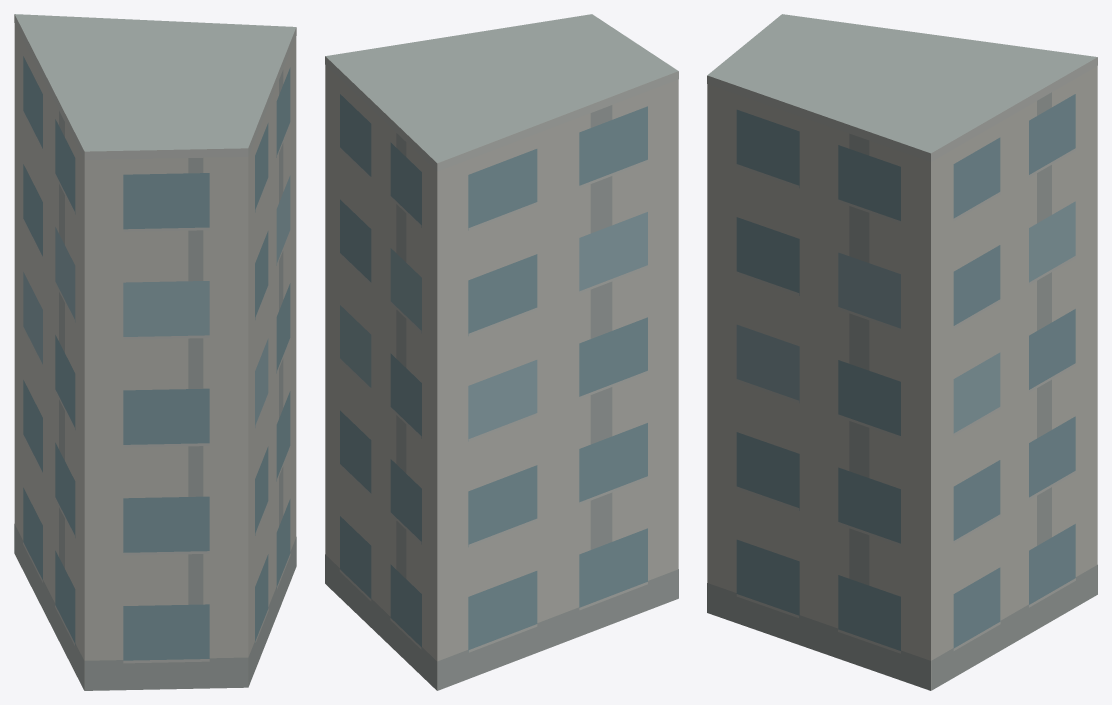
File: survey-upis-32717664.glb
3 renders of one model, left to right at view 1: azimuth 30°, elevation 25°; view 2: azimuth 150°, elevation 25°; view 3: azimuth 270°, elevation 25°, orthographic. The views are drawn at different scales.
Parts seen in each view (by area): view 1: survey-upis-32717664.tmp; view 2: survey-upis-32717664.tmp; view 3: survey-upis-32717664.tmp.
Part boxes in pixels (x1,y1,x2,y2): survey-upis-32717664.tmp: (14, 14, 296, 690); survey-upis-32717664.tmp: (325, 14, 678, 690); survey-upis-32717664.tmp: (707, 14, 1097, 690).
Bounding box in the file's own units: 8.49 × 15.25 × 10.05.
